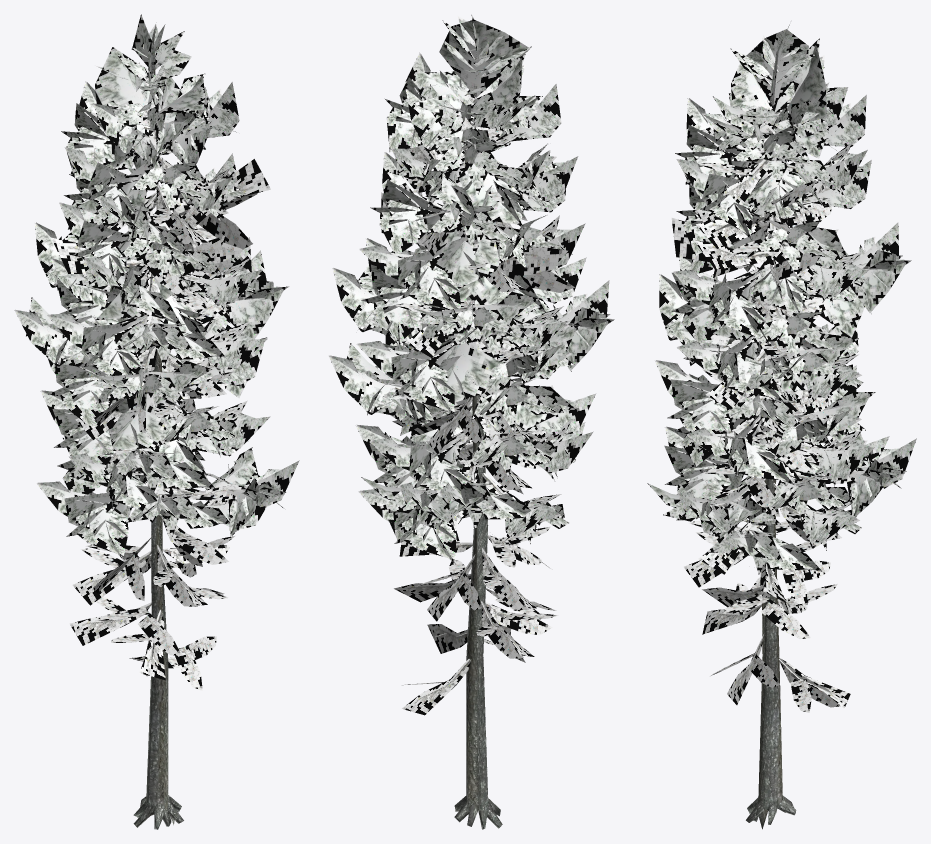
Rendered from arctic-fir-a-close.glb.
3 views of the same model, side by side, from view 1: azimuth 30°, elevation 25°; view 2: azimuth 150°, elevation 25°; view 3: azimuth 270°, elevation 25° (orthographic). The views are drawn at different scales.
Parts seen in each view (by area): view 1: douglas_fir_a_LOD0; view 2: douglas_fir_a_LOD0; view 3: douglas_fir_a_LOD0.
Boxes of the visible parts, left/top/right/bottom form: douglas_fir_a_LOD0: left=14, top=14, right=299, bottom=829; douglas_fir_a_LOD0: left=329, top=15, right=614, bottom=829; douglas_fir_a_LOD0: left=647, top=24, right=916, bottom=829.
Size of the model in its own units: 12.76 by 41.54 by 12.77.
Materials: 1 (1 with a texture image).
